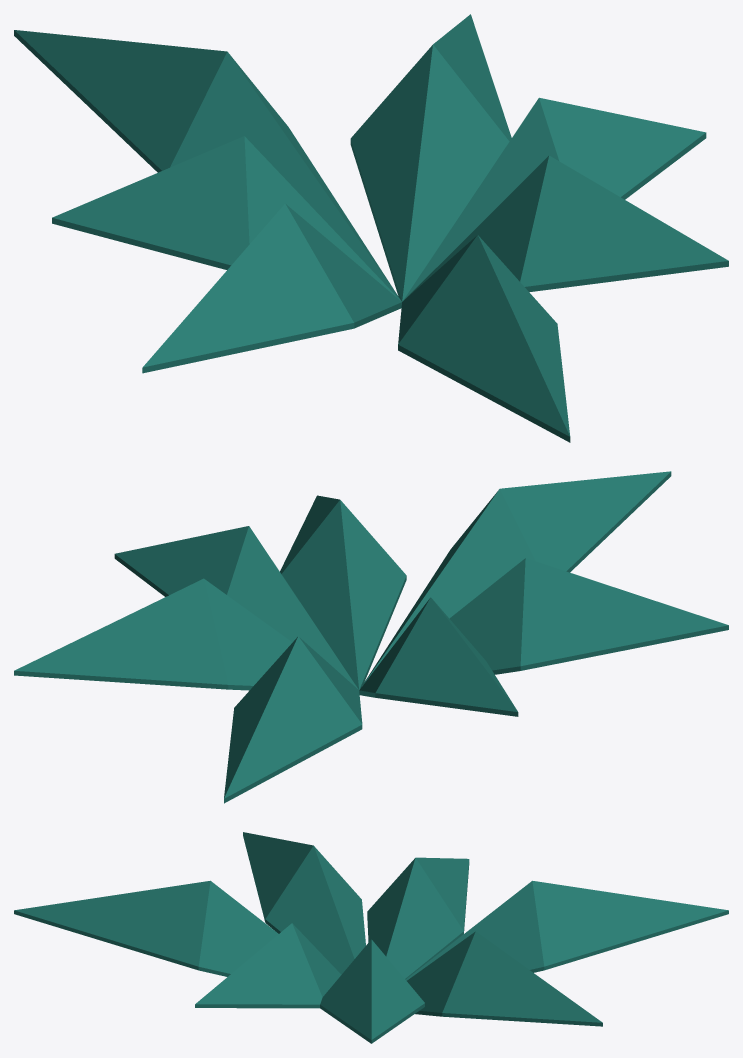
The picture shows the model from 3 angles, top to bottom: view 1: azimuth 30°, elevation 25°; view 2: azimuth 150°, elevation 25°; view 3: azimuth 270°, elevation 25°; orthographic projection. The views are drawn at different scales.
Visible parts, largest first — view 1: 森林叠叶_1.001; view 2: 森林叠叶_1.001; view 3: 森林叠叶_1.001.
Part boxes in pixels (box(x1,y1,x2,y2)): 森林叠叶_1.001: box(14, 14, 728, 442); 森林叠叶_1.001: box(14, 471, 728, 803); 森林叠叶_1.001: box(14, 832, 728, 1043).
Bounding box in the file's own units: 0.4714 × 0.1201 × 0.6844.
